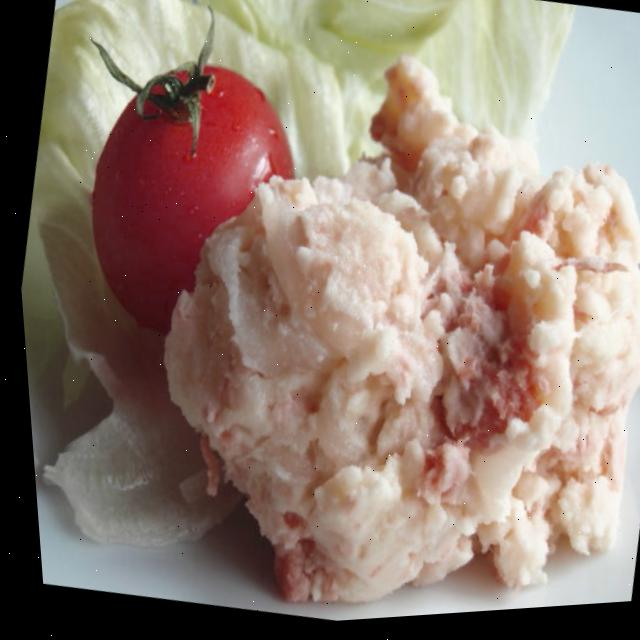蔬菜料理: (80, 0, 640, 636)
